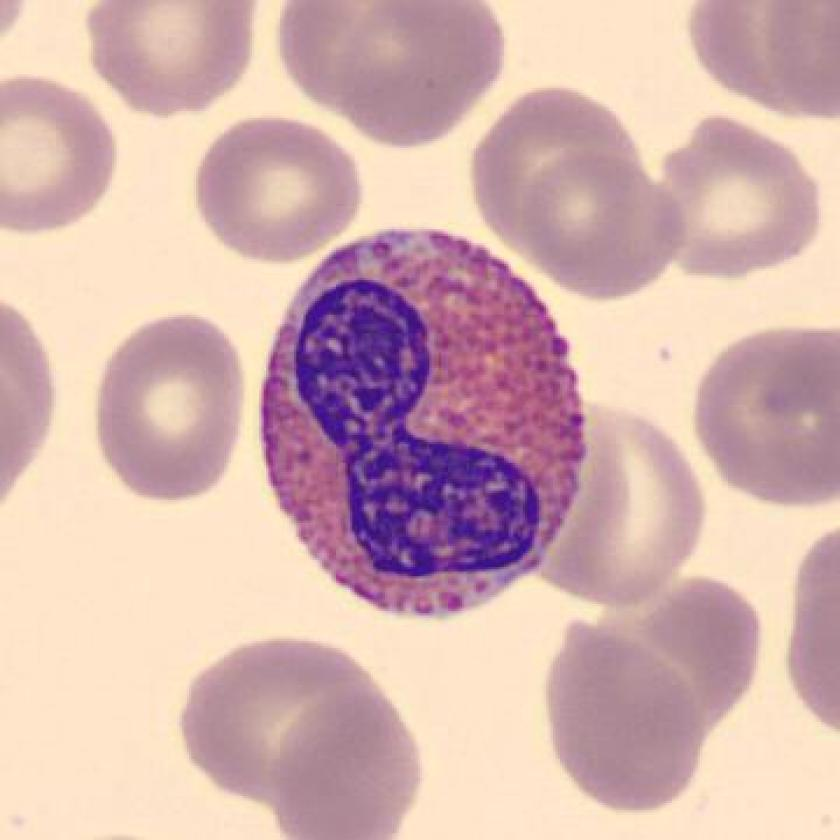eosinophil: (246, 219, 603, 631)
